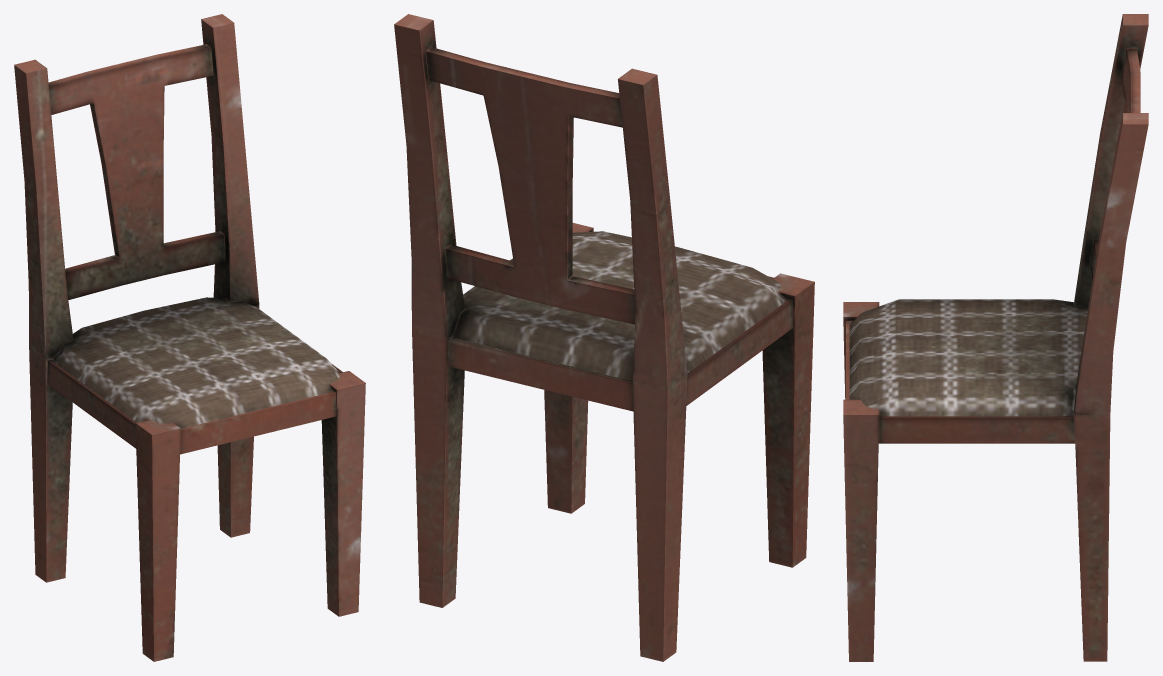
The model's file is DiningChair.FBX.
3 views of the same model, side by side, from view 1: azimuth 30°, elevation 25°; view 2: azimuth 150°, elevation 25°; view 3: azimuth 270°, elevation 25° (orthographic). The views are drawn at different scales.
Visible parts, largest first — view 1: DiningChair; view 2: DiningChair; view 3: DiningChair.
Part boxes in pixels (box(x1,y1,x2,y2)): DiningChair: box(14, 14, 365, 661); DiningChair: box(394, 14, 814, 661); DiningChair: box(843, 14, 1148, 661).
Bounding box in the file's own units: 56.7 × 126 × 64.67.
